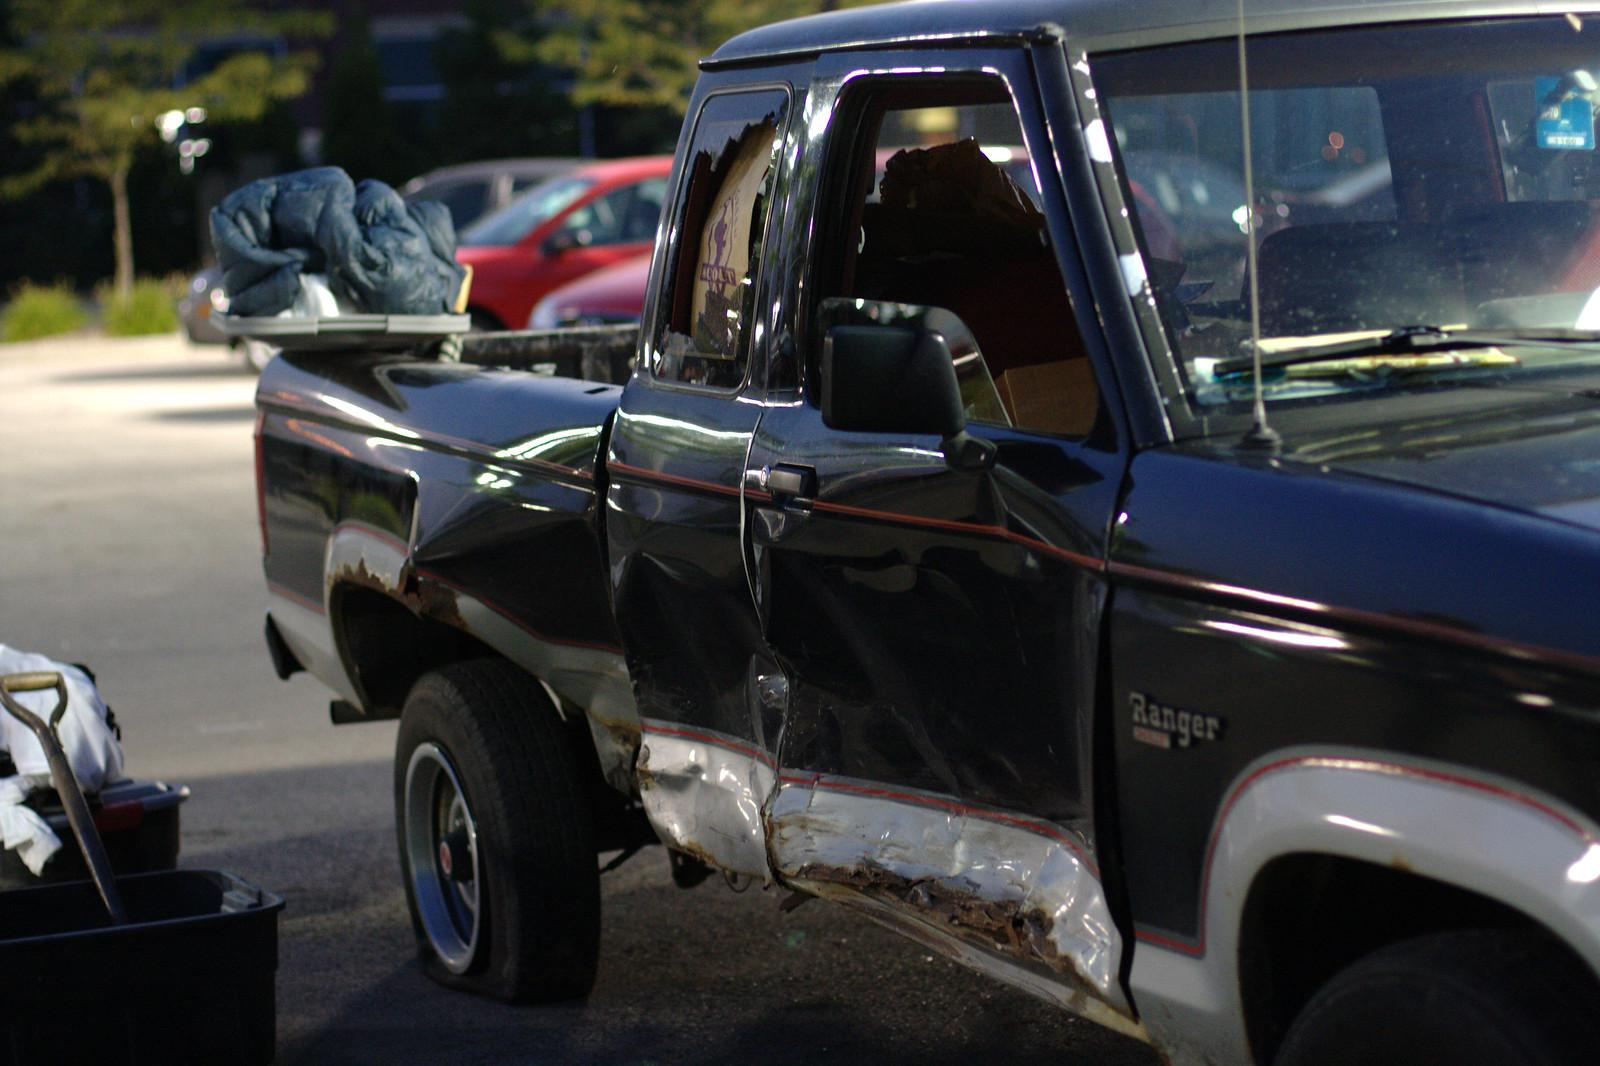RunningBoard-Dent: (777, 878, 1181, 987)
doorouter-dent: (751, 390, 1152, 878)
quaterpanel-dent: (303, 395, 625, 725)
